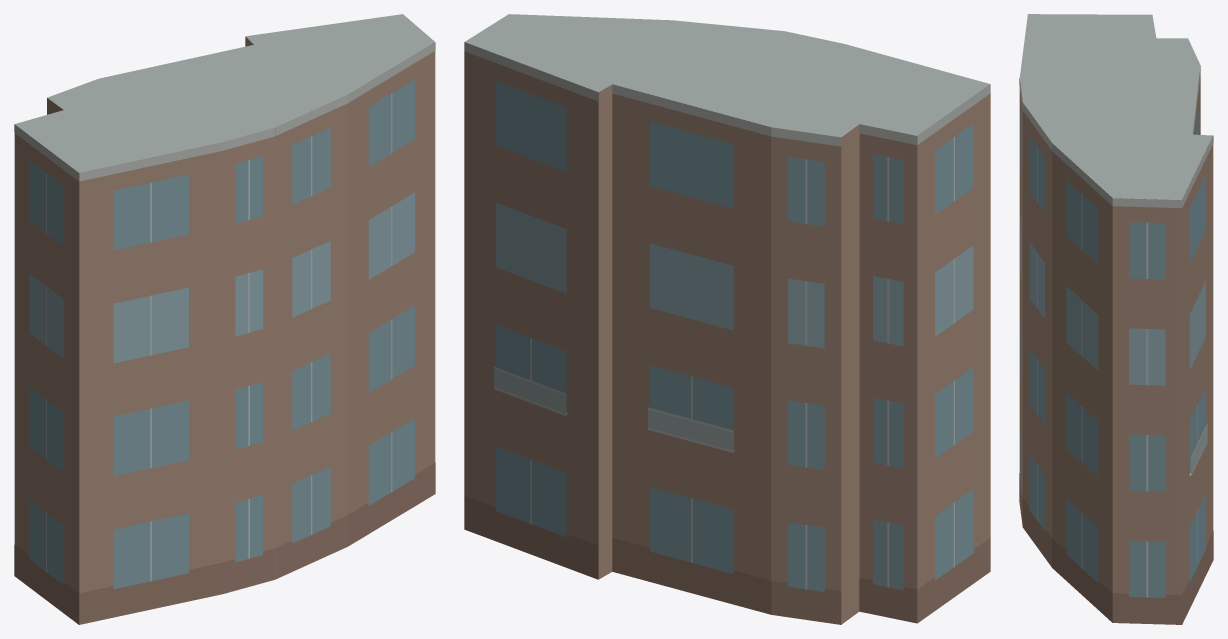
Rendered from survey-upis-32464208.glb.
3 renders of one model, left to right at view 1: azimuth 30°, elevation 25°; view 2: azimuth 150°, elevation 25°; view 3: azimuth 270°, elevation 25°, orthographic. The views are drawn at different scales.
Visible parts, largest first — view 1: survey-upis-32464208.tmp; view 2: survey-upis-32464208.tmp; view 3: survey-upis-32464208.tmp.
Boxes of the visible parts, <box> form: survey-upis-32464208.tmp: <box>14,14,435,624</box>; survey-upis-32464208.tmp: <box>464,14,990,624</box>; survey-upis-32464208.tmp: <box>1019,14,1213,624</box>.
Bounding box in the file's own units: 12.13 × 12.9 × 5.34.
